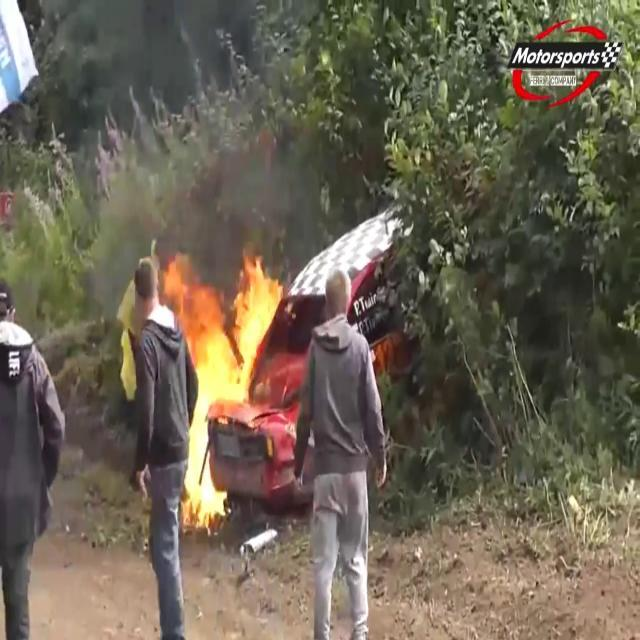Fire: (170, 244, 290, 524)
